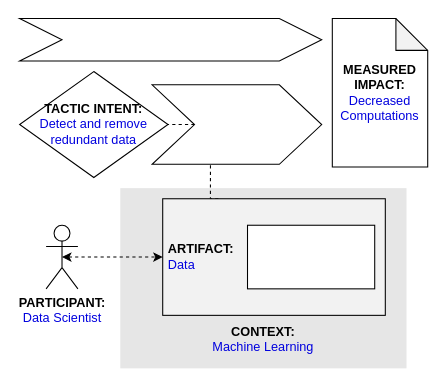
Some shapes in this 446 by 387 pixel diagram are drawn without their labels. Each missing label, with the centre of its shape:
OTHER RELATED QAs: Accuracy, Data Representativeness: point (170, 39)
SOFTWARE FEATURE: -: point (310, 256)
TARGET QA: Energy Efficiency: point (236, 124)
